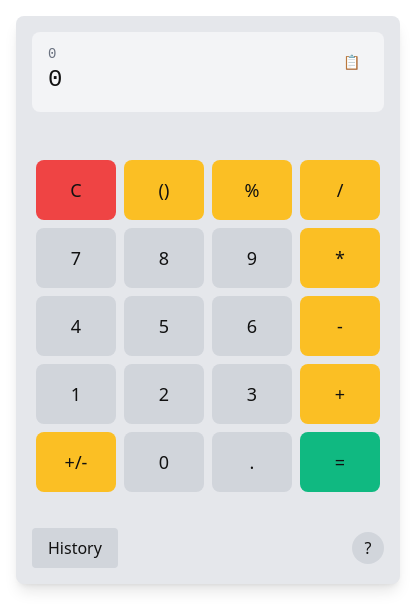
Test: Calculator integration with testIds › performs 10 + 2 = 12
Step 1. Click the button with test id "key-1" → point(76, 394), box [36,364,116,424]
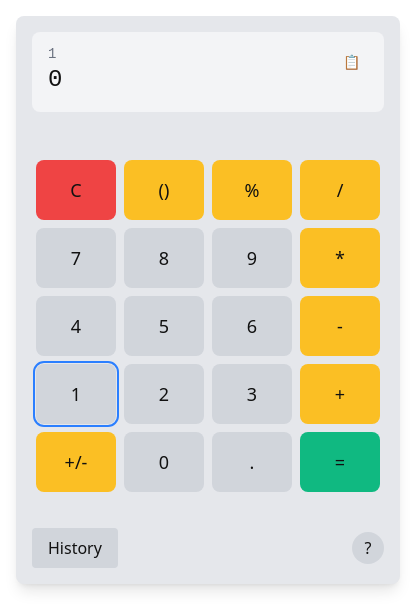
Step 2. Click the button with test id "key-0" → point(164, 462), box [124,432,204,492]
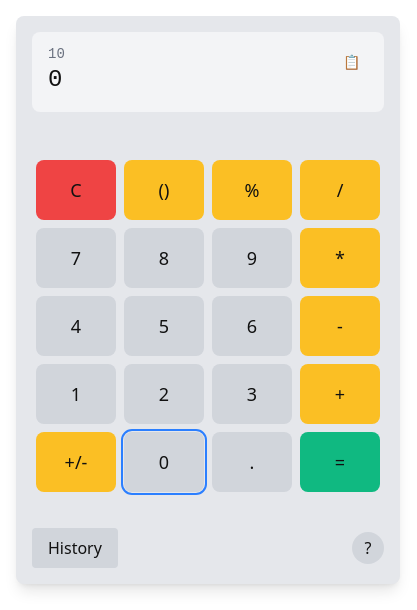
Step 3. Click the button with test id "key-+" → point(340, 394), box [300,364,380,424]
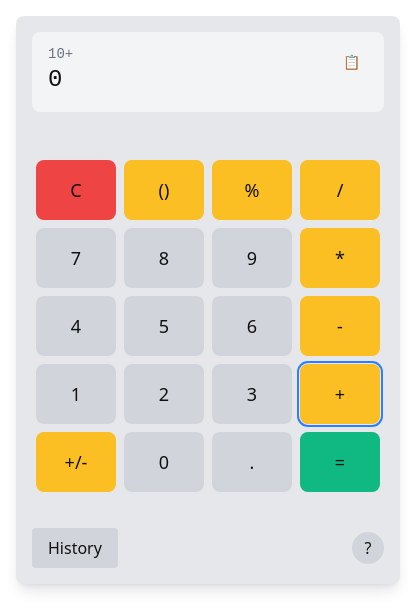
Step 4. Click the button with test id "key-2" → point(164, 394), box [124,364,204,424]
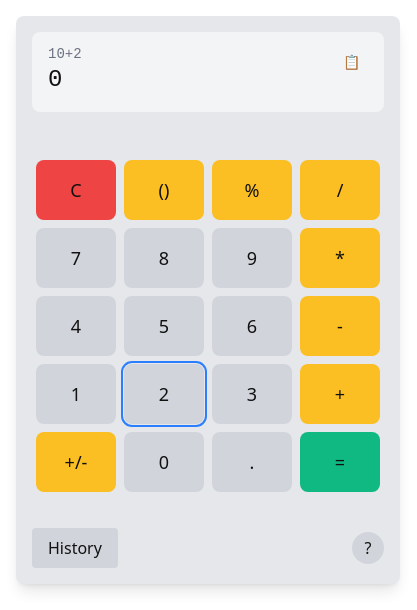
Step 5. Click the button with test id "key-=" → point(340, 462), box [300,432,380,492]
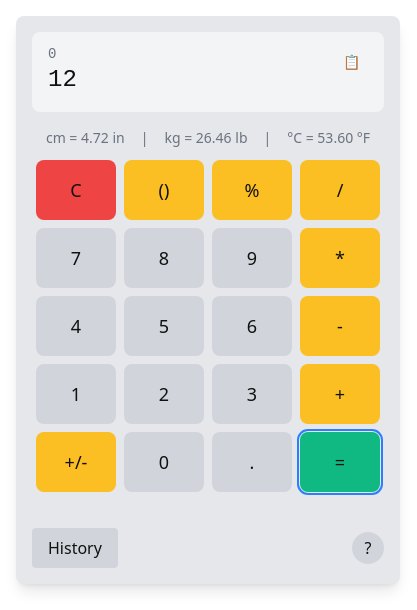
Check: the text with test id "result" reads "12", box [48,66,77,93]
